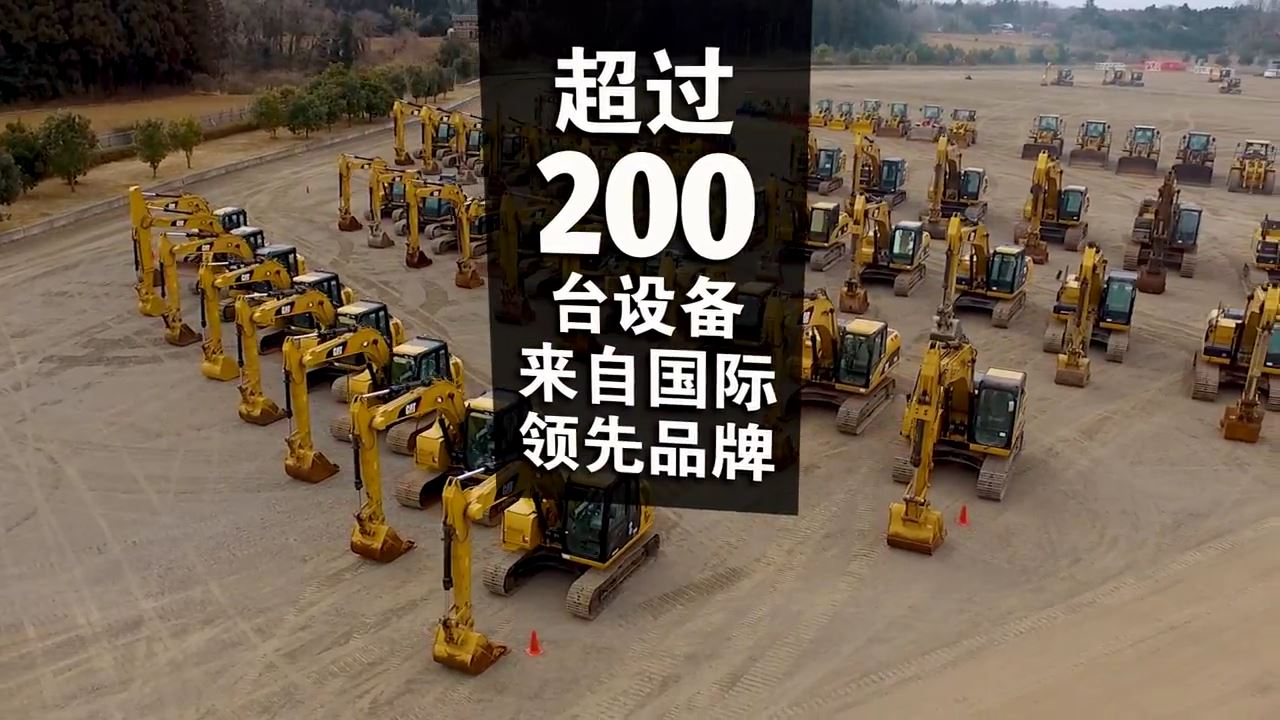con_eq: (424, 446, 663, 681), (879, 307, 1026, 566), (345, 375, 540, 557), (274, 319, 462, 490), (234, 281, 401, 439), (764, 284, 914, 437), (154, 227, 318, 361), (198, 259, 356, 388), (116, 184, 251, 319), (1045, 247, 1134, 387), (931, 221, 1038, 334), (843, 212, 935, 321), (1016, 157, 1098, 261), (1128, 181, 1204, 290), (326, 149, 418, 234), (397, 179, 472, 273), (922, 149, 993, 243), (371, 165, 432, 248), (457, 189, 502, 292), (845, 143, 909, 212), (810, 198, 851, 271), (1115, 123, 1163, 179), (446, 113, 487, 177), (424, 93, 459, 166), (1171, 130, 1214, 183), (1068, 117, 1111, 169), (1200, 294, 1220, 401), (811, 142, 849, 196), (1024, 119, 1066, 164), (1095, 62, 1145, 95), (1037, 62, 1079, 98), (951, 106, 986, 146), (915, 103, 947, 141), (881, 101, 909, 137), (832, 100, 856, 135), (856, 99, 882, 125), (813, 99, 829, 128)
